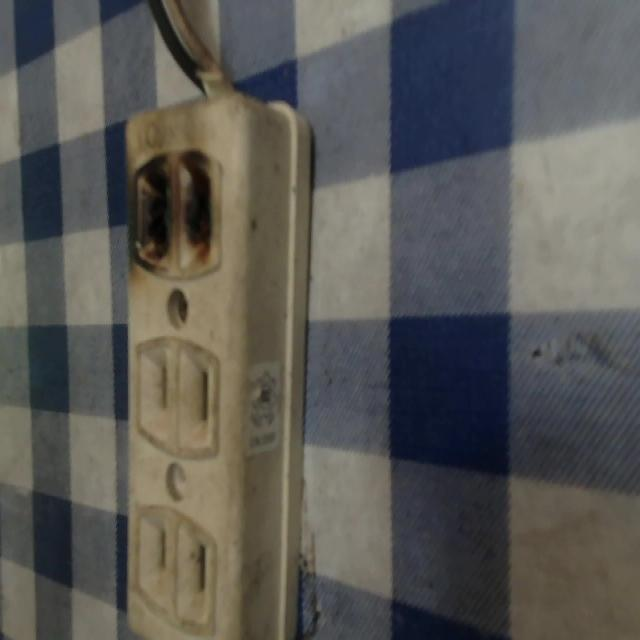-: (122, 140, 229, 276)
